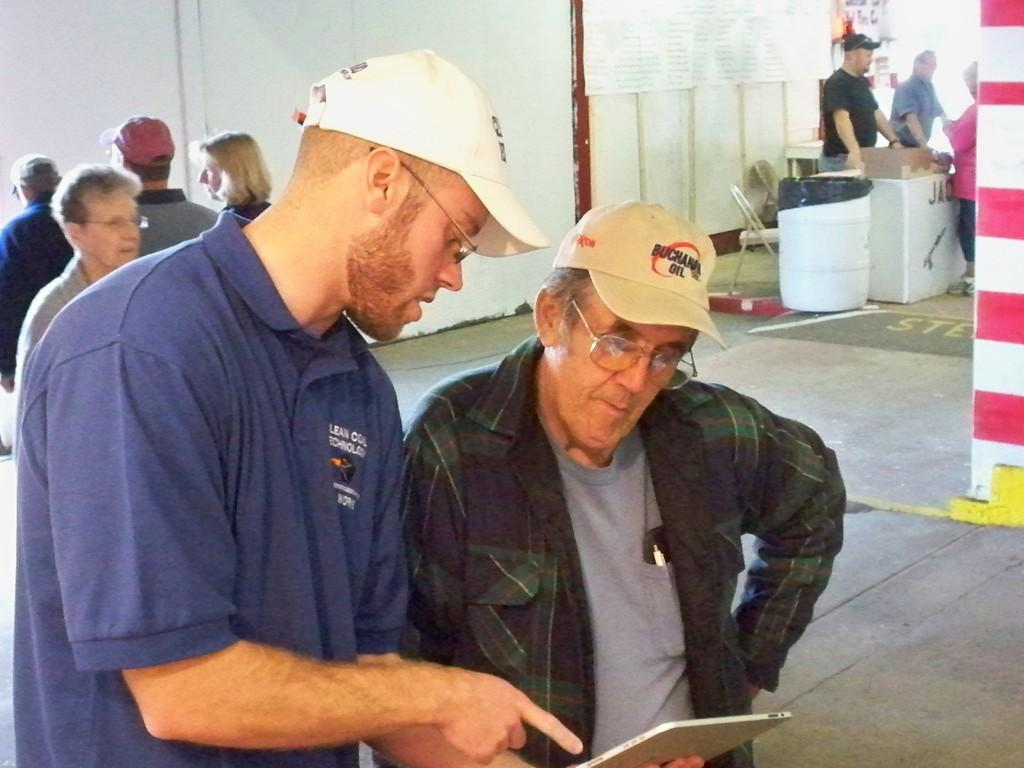Hat: (294, 45, 552, 258), (553, 202, 726, 352), (93, 111, 176, 168), (13, 150, 59, 192), (840, 30, 878, 51)
